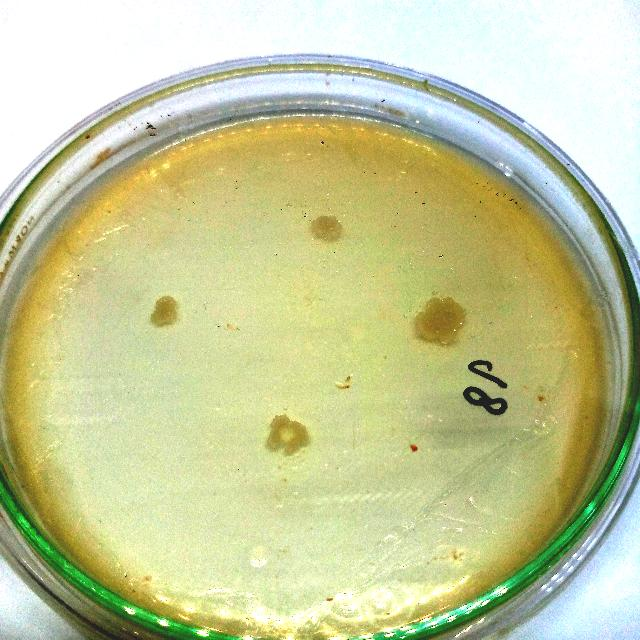colony: (409, 293, 469, 351), (257, 410, 317, 462), (300, 208, 346, 248), (141, 292, 185, 332)
